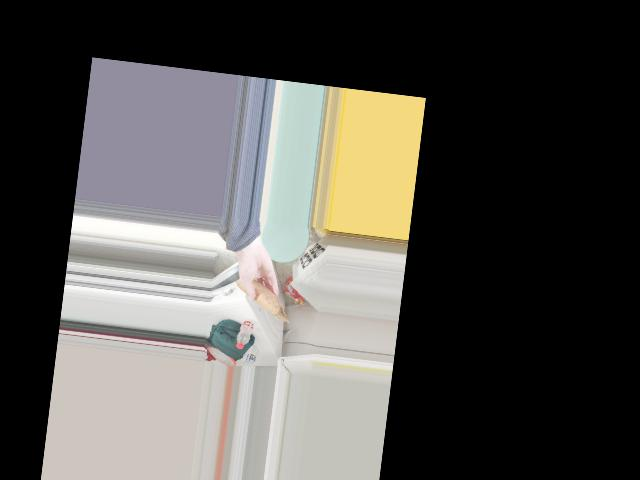sweet_potato: (243, 279, 278, 314)
